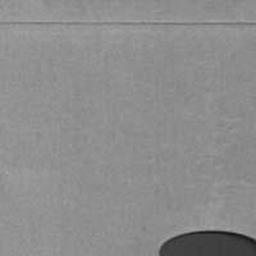Punching: (157, 229, 256, 256)
